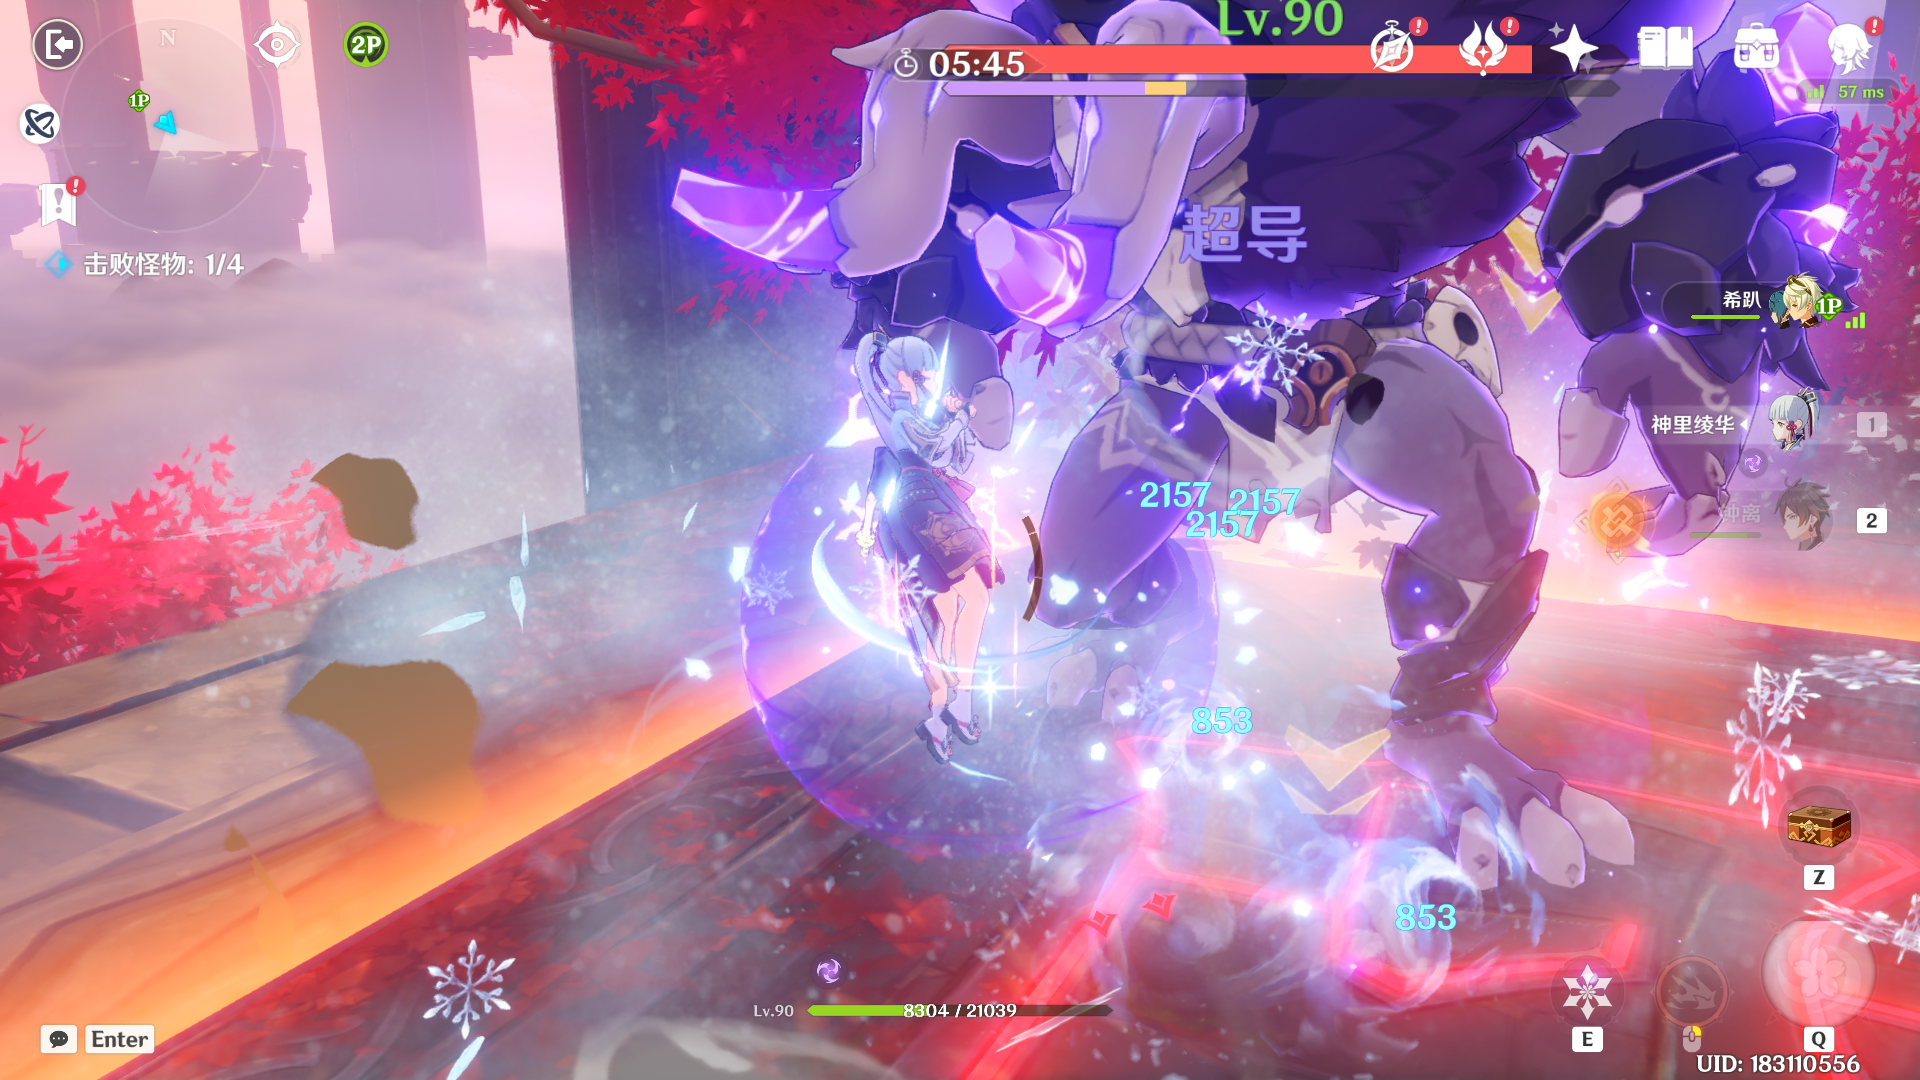bosshili: (600, 1, 1898, 973)
character: (818, 289, 1076, 777)
